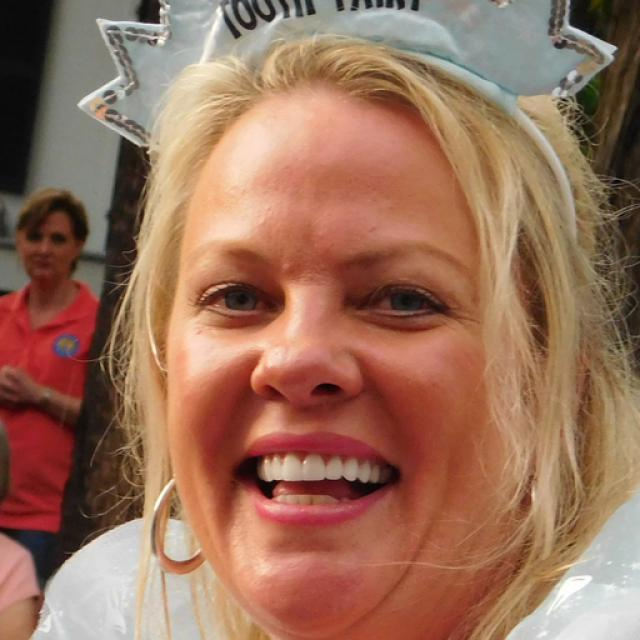happy: (158, 111, 532, 640)
